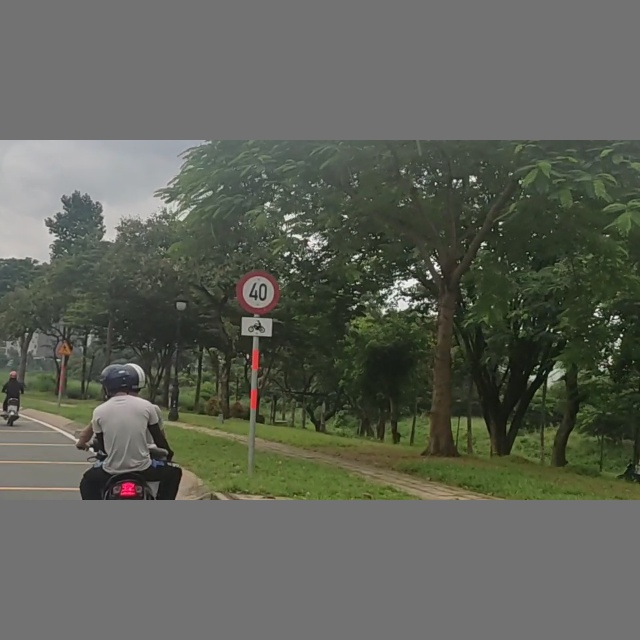P.127*40: (237, 271, 279, 315)
W.224: (58, 340, 73, 354)
